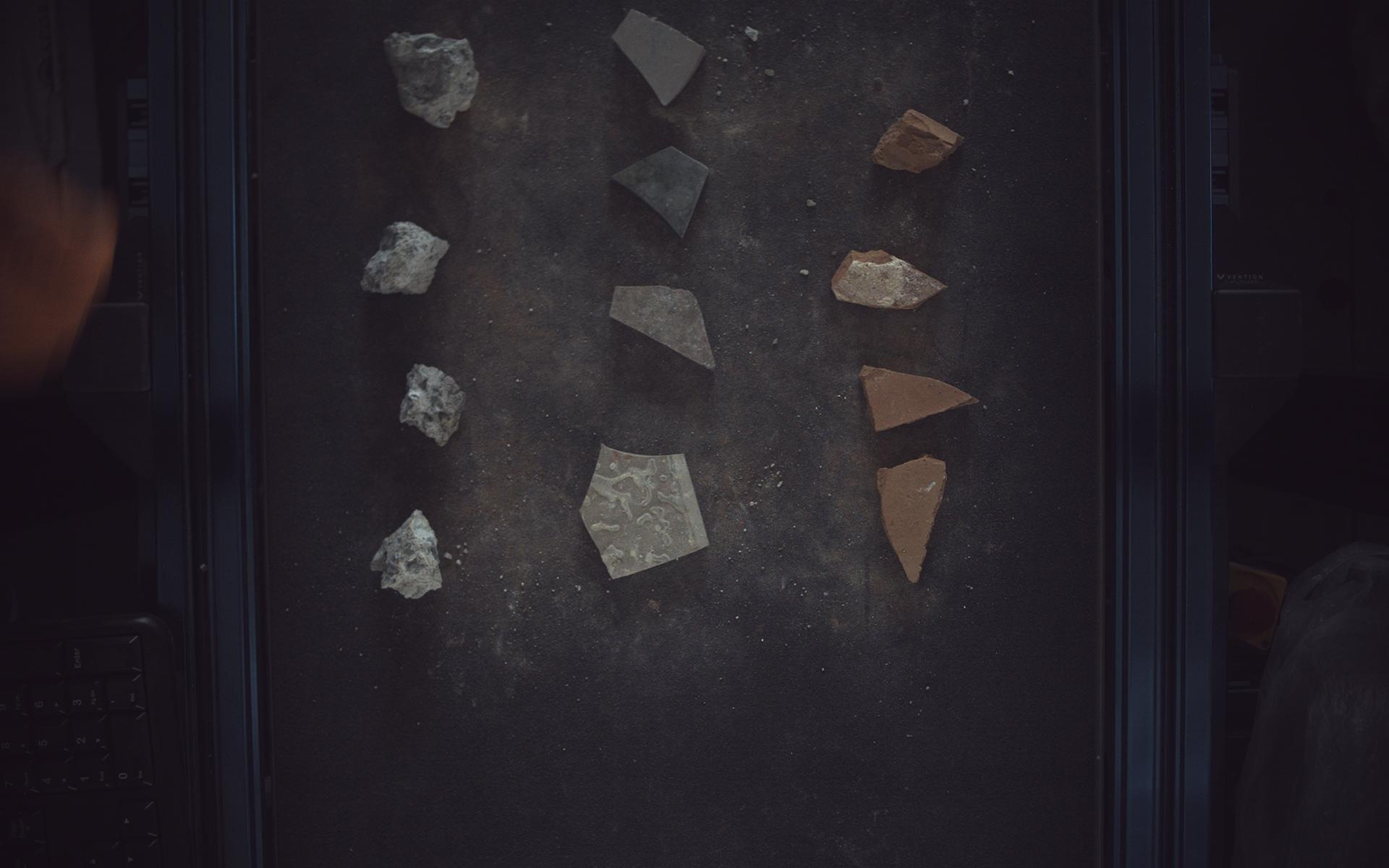brick: (878, 456, 948, 584), (862, 365, 980, 432), (833, 250, 948, 310), (873, 109, 966, 172)
concrete: (384, 31, 479, 127), (370, 510, 442, 600), (361, 222, 449, 294), (399, 364, 465, 447)
tile: (581, 445, 709, 579), (613, 8, 707, 105), (613, 145, 710, 237), (611, 285, 716, 369)
